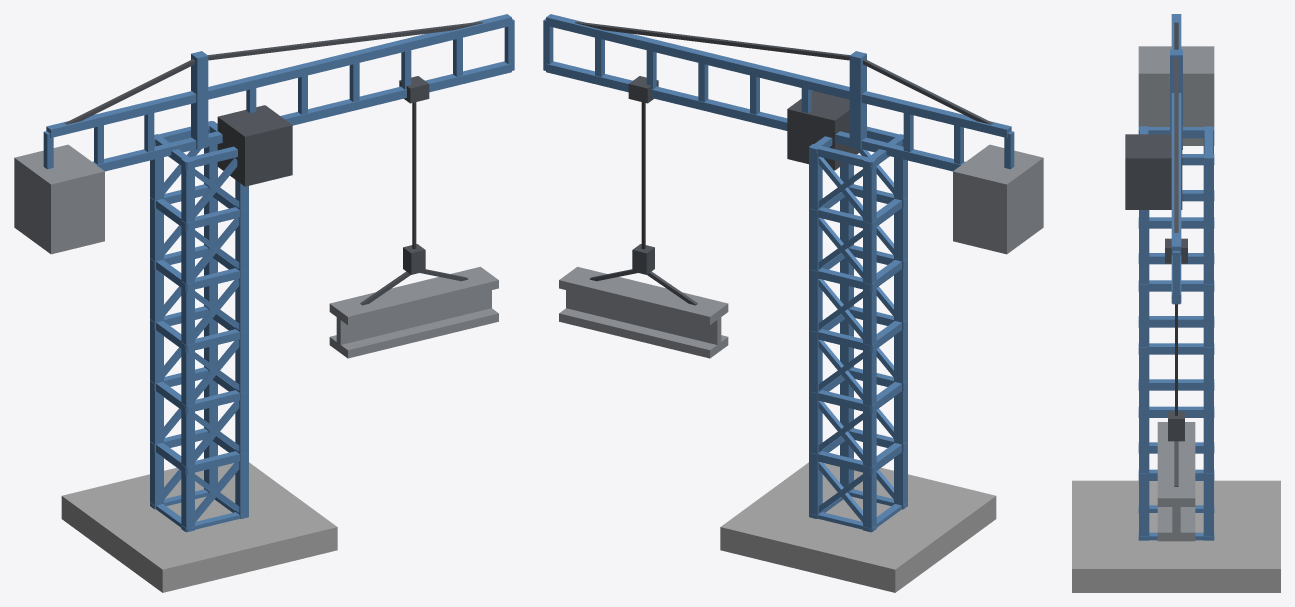
Rendered from crane.glb.
3 views of the same model, side by side, from view 1: azimuth 30°, elevation 25°; view 2: azimuth 150°, elevation 25°; view 3: azimuth 270°, elevation 25° (orthographic). The views are drawn at different scales.
Parts seen in each view (by area): view 1: geometry_0, geometry_76, geometry_75, geometry_2, geometry_1, geometry_80, geometry_65, geometry_4, geometry_82, geometry_66, geometry_81, geometry_3 (+6 smaller); view 2: geometry_0, geometry_76, geometry_1, geometry_2, geometry_3, geometry_80, geometry_65, geometry_75, geometry_66, geometry_82, geometry_81, geometry_4 (+7 smaller); view 3: geometry_0, geometry_76, geometry_3, geometry_75, geometry_4, geometry_80, geometry_65, geometry_81, geometry_73, geometry_57, geometry_24, geometry_31 (+13 smaller).
Part boxes in pixels (box(x1,y1,x2,y2)): geometry_0: box(61, 462, 337, 592); geometry_76: box(14, 144, 104, 254); geometry_75: box(217, 105, 292, 186); geometry_2: box(181, 164, 194, 532); geometry_1: box(150, 143, 163, 509); geometry_80: box(329, 266, 498, 324); geometry_65: box(208, 14, 511, 99); geometry_4: box(235, 180, 248, 518); geometry_82: box(336, 290, 491, 345); geometry_66: box(208, 61, 511, 146); geometry_81: box(329, 308, 498, 358); geometry_3: box(204, 130, 217, 493); geometry_0: box(720, 462, 996, 592); geometry_76: box(953, 144, 1043, 254); geometry_1: box(863, 164, 876, 532); geometry_2: box(894, 143, 907, 509); geometry_3: box(809, 151, 822, 518); geometry_80: box(559, 266, 728, 324); geometry_65: box(546, 14, 849, 99); geometry_75: box(787, 90, 858, 170); geometry_66: box(546, 61, 849, 146); geometry_82: box(566, 290, 721, 345); geometry_81: box(559, 308, 728, 358); geometry_4: box(840, 163, 853, 493); geometry_0: box(1072, 480, 1280, 592); geometry_76: box(1138, 46, 1214, 145); geometry_3: box(1203, 161, 1213, 540); geometry_75: box(1125, 134, 1182, 209); geometry_4: box(1139, 210, 1149, 540); geometry_80: box(1157, 422, 1195, 506); geometry_65: box(1171, 93, 1181, 255); geometry_81: box(1157, 507, 1195, 541); geometry_73: box(1174, 58, 1178, 232); geometry_57: box(1170, 49, 1182, 149); geometry_24: box(1138, 379, 1214, 390); geometry_31: box(1138, 343, 1214, 354).
Bounding box in the file's own units: 3.02 × 2.88 × 1.1.
